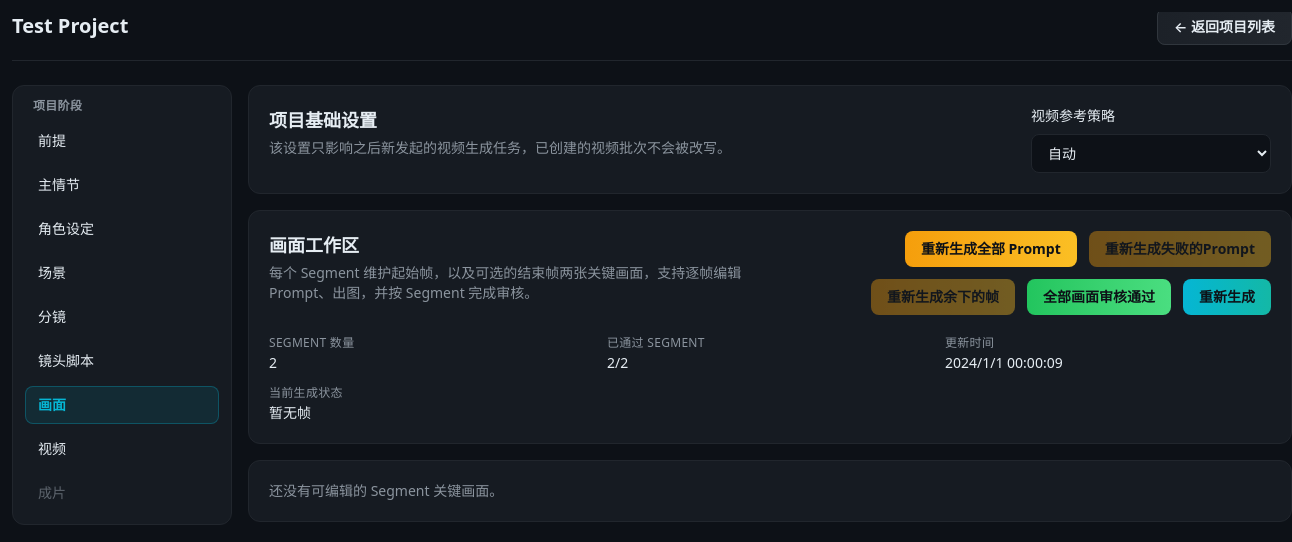
Project Detail Page › enables the videos phase when the current image batch summary is approved by shot count
Click the button "视频" at (122, 449), box [25,430,219,468]
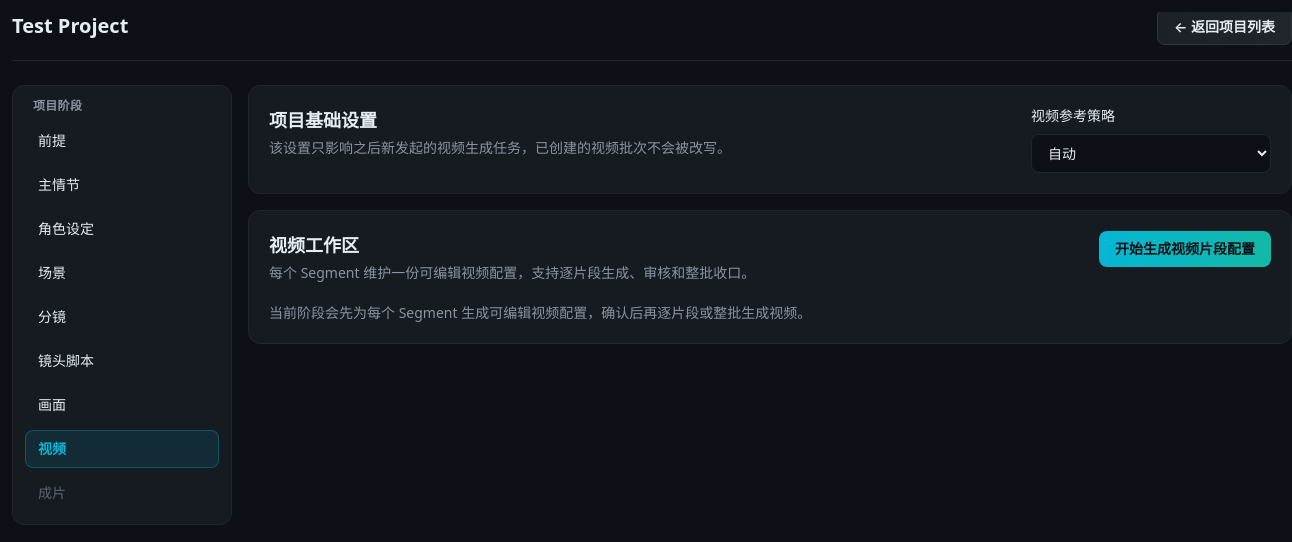
Expected: the heading "视频工作区" is shown, [269,233,359,257]
Expected: the button "开始生成视频片段配置" is shown, [1099,231,1271,267]
Expected: the text "当前阶段会先为每个 Segment 生成可编辑视频配置，确认后再逐片段或整批生成视频。" is shown, [269,303,811,322]
